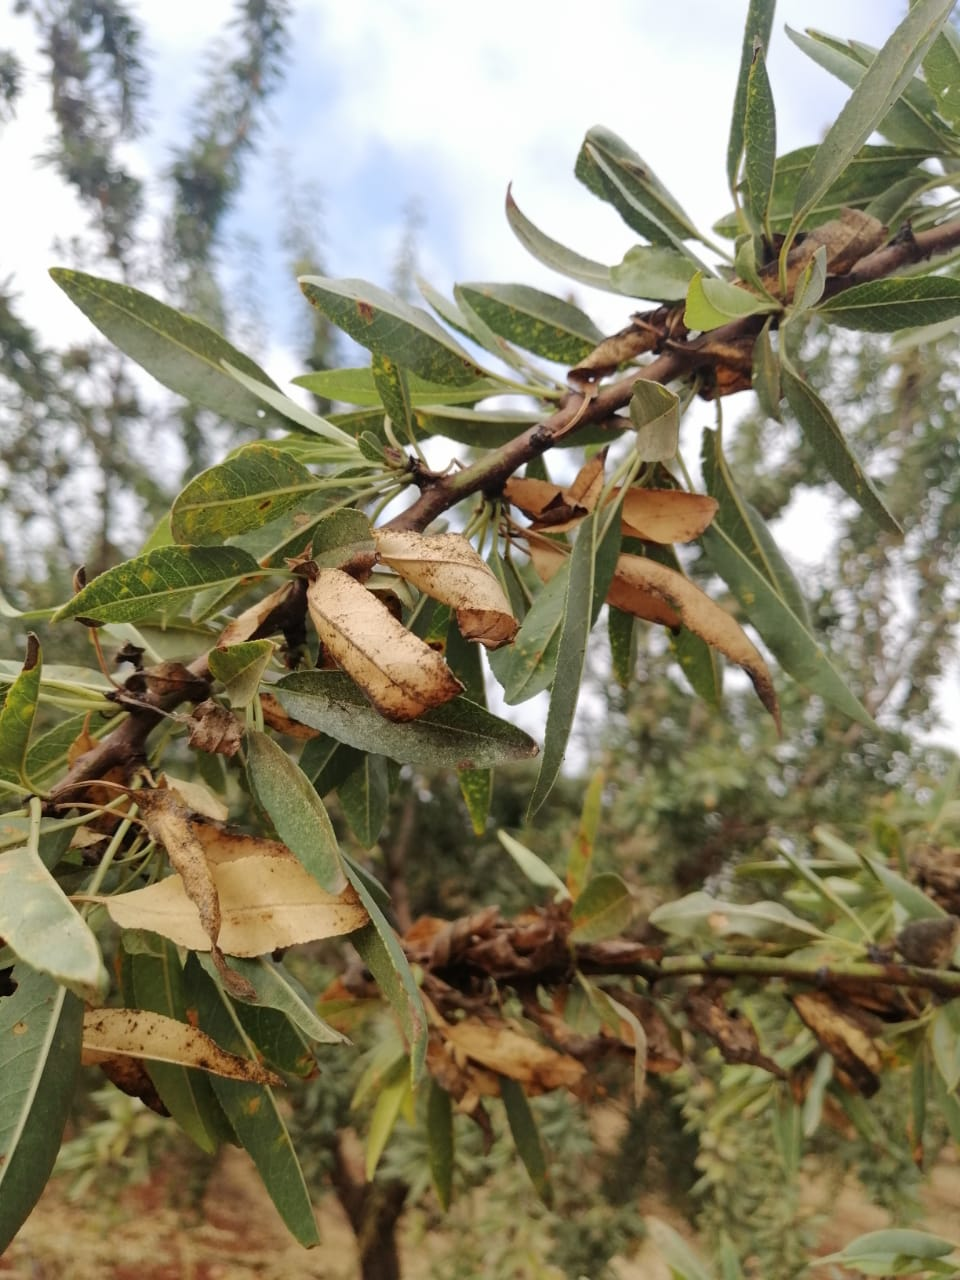scolytes: (1, 203, 888, 930), (336, 894, 911, 1100)
